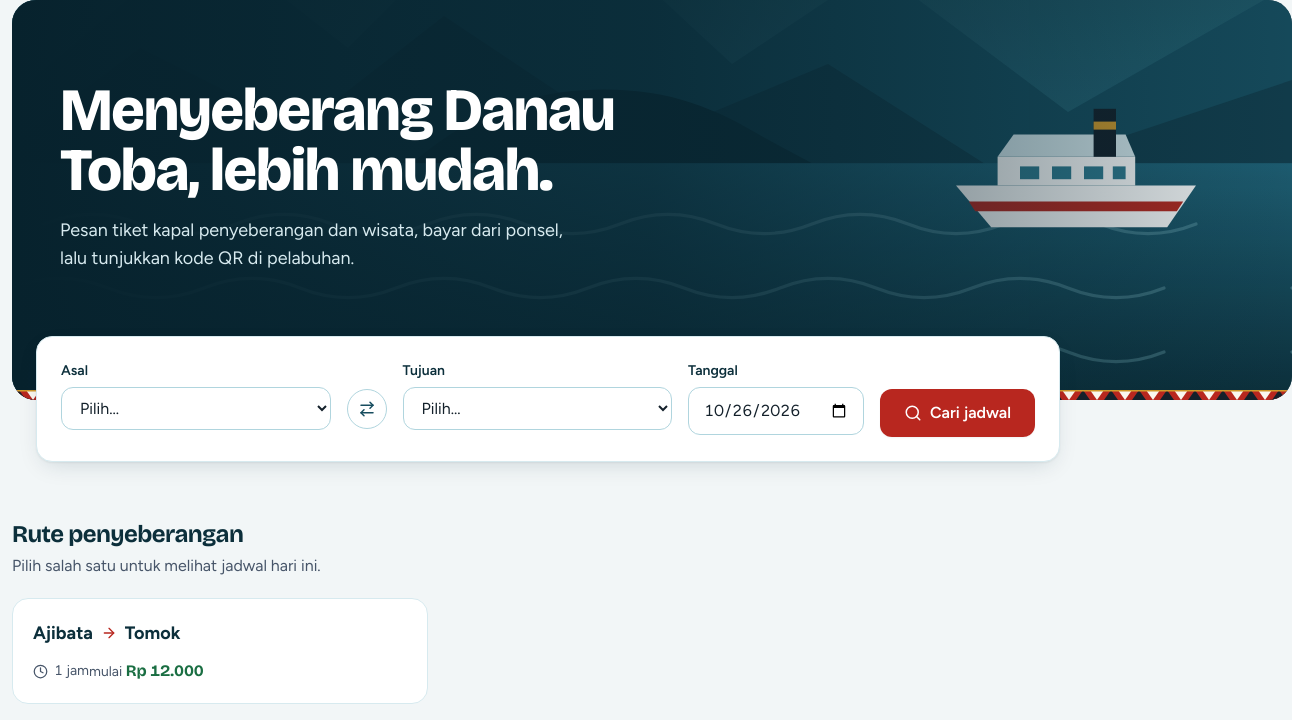
Test: HomePage › tujuan sama dengan asal ditolak
Select "Ajibata" in the dropdown with id "origin" at (196, 408), box [61,387,330,430]
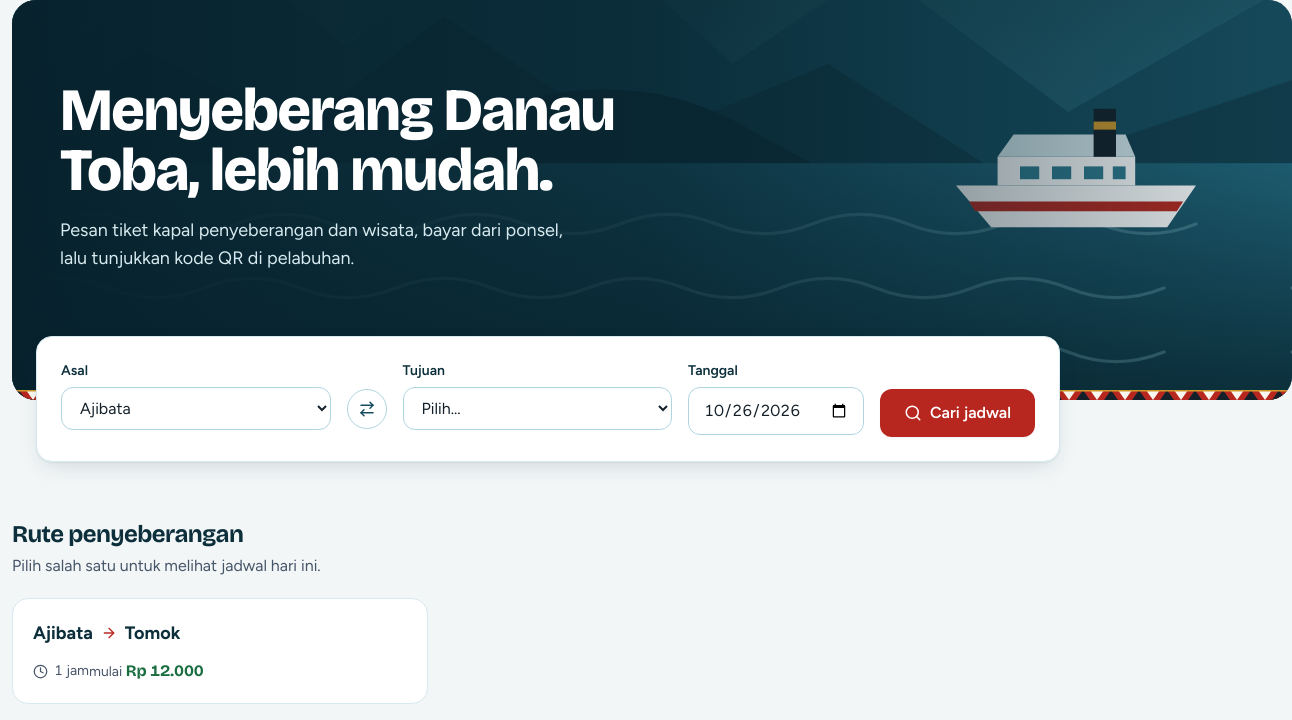
Select "Ajibata" in the dropdown with id "destination" at (537, 408), box [402,387,672,430]
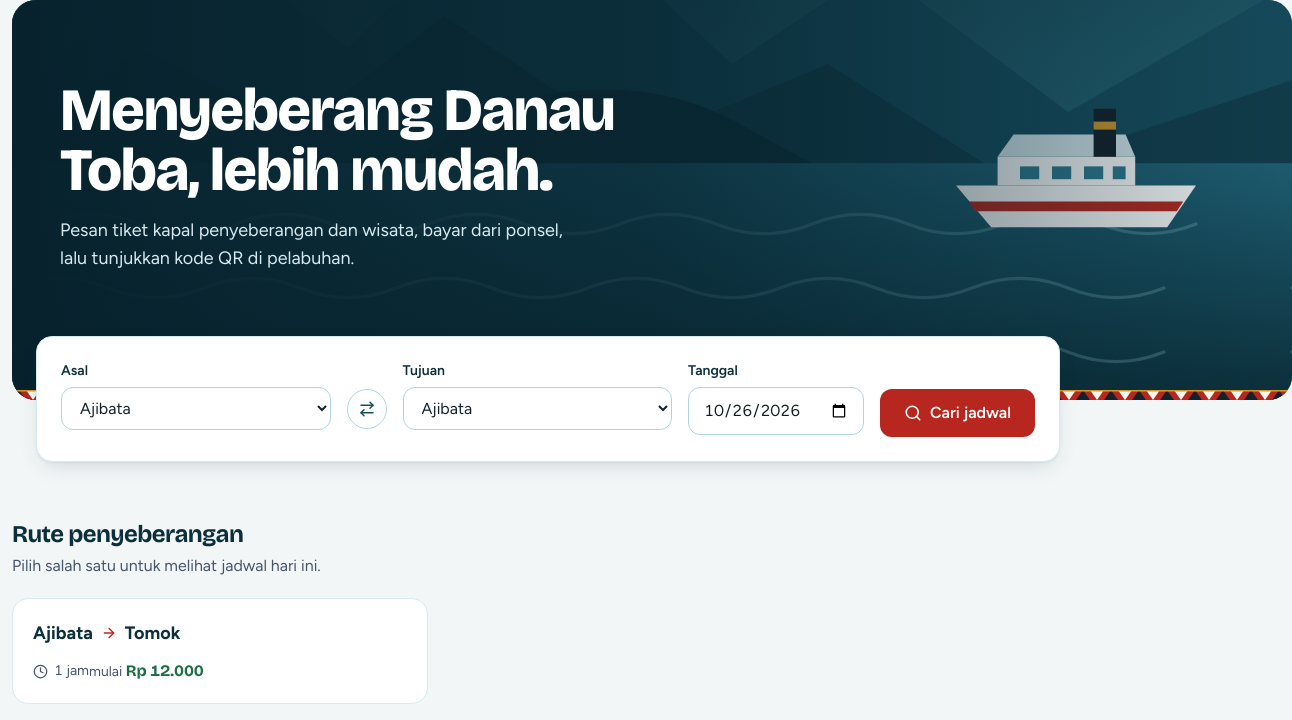
Submit the form, box [61,361,1035,437]
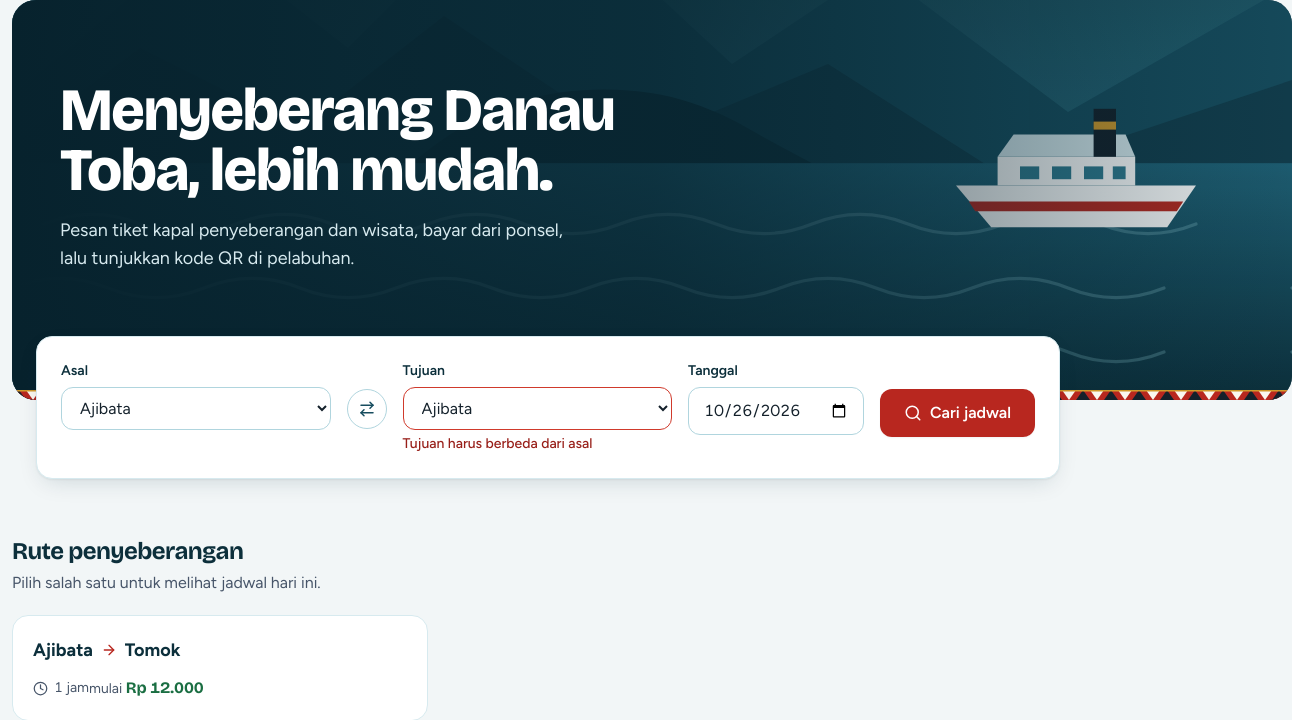
Expected: the text "Tujuan harus berbeda dari asal" is shown, [402,435,592,452]
